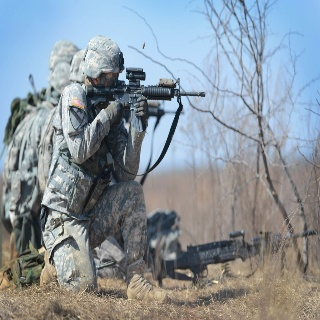rifle: (159, 228, 318, 281), (86, 67, 206, 131)
